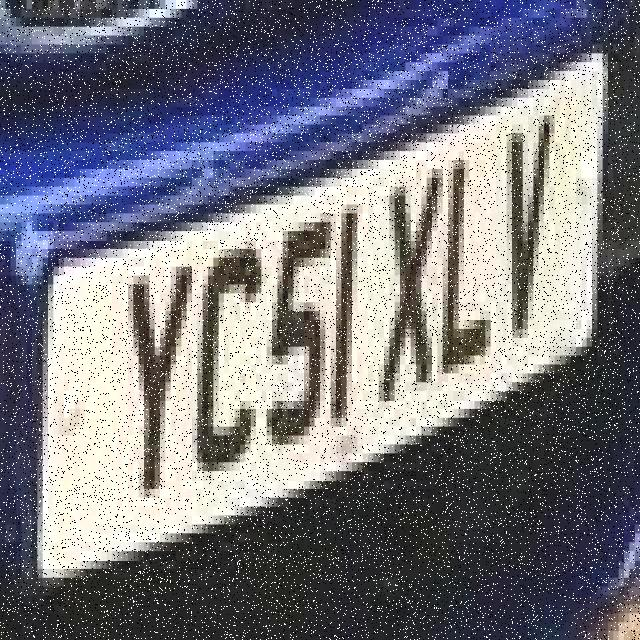licenseplate: (31, 45, 614, 585)
